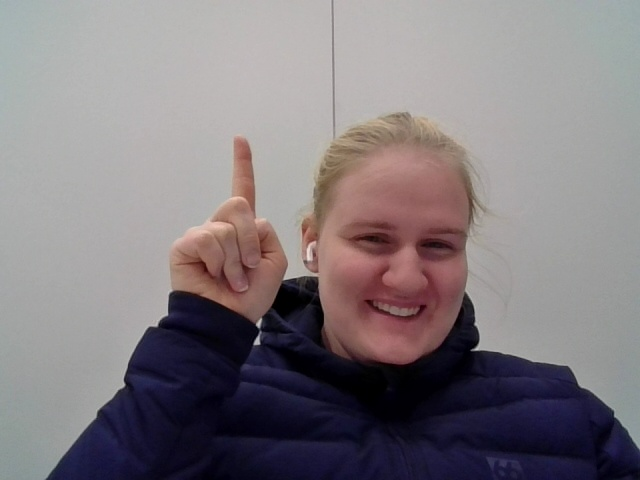up: (175, 121, 285, 322)
